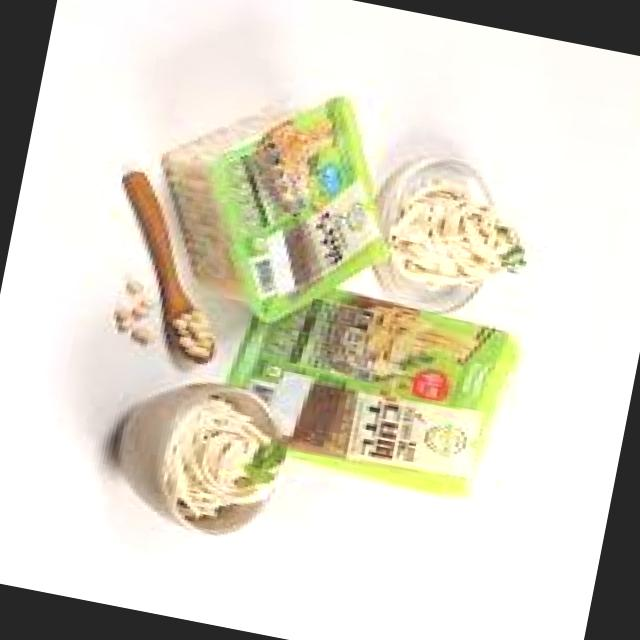tof: (133, 81, 409, 338)
